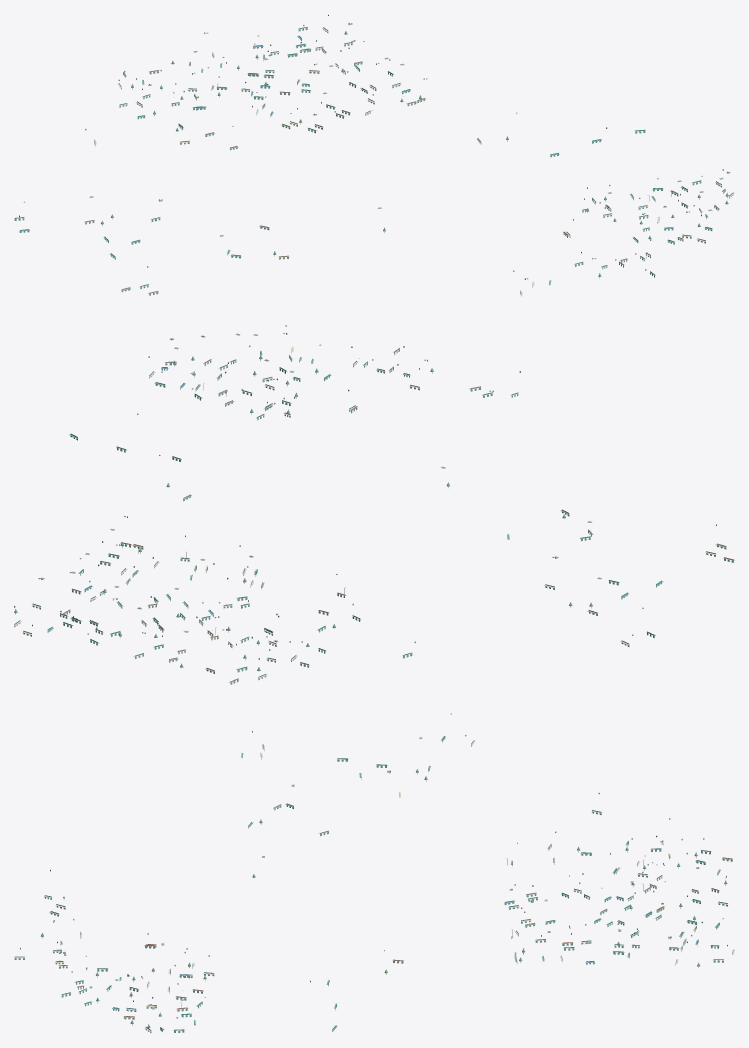
3 renders of one model, top to bottom at view 1: azimuth 30°, elevation 25°; view 2: azimuth 150°, elevation 25°; view 3: azimuth 270°, elevation 25°, orthographic. The views are drawn at different scales.
Parts seen in each view (by area): view 1: Station neighborhood architectural details; view 2: Station neighborhood architectural details; view 3: Station neighborhood architectural details.
Part boxes in pixels (<box>): Station neighborhood architectural details: <box>14,14,734,296</box>; Station neighborhood architectural details: <box>14,325,734,684</box>; Station neighborhood architectural details: <box>14,713,734,1032</box>.
Size of the model in its own units: 673 by 33.9 by 692.
